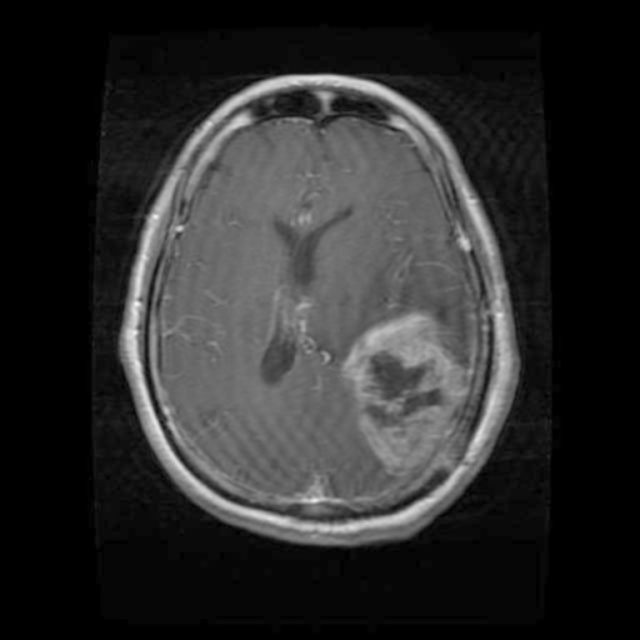pituitary tumor: (355, 310, 470, 468)
